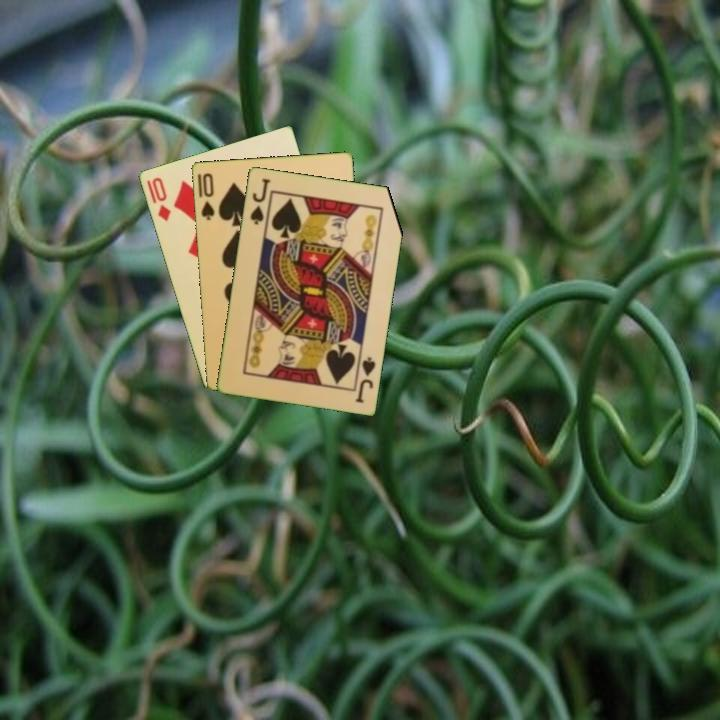10d: (148, 173, 173, 224)
10s: (197, 169, 217, 223)
Js: (246, 175, 273, 227), (351, 353, 378, 405)
